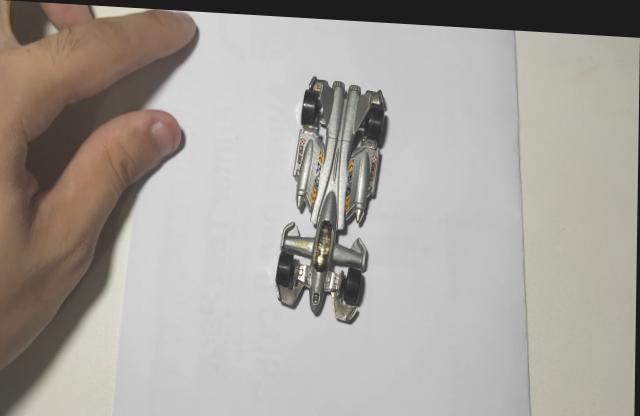05_DC121: (276, 74, 391, 322)
